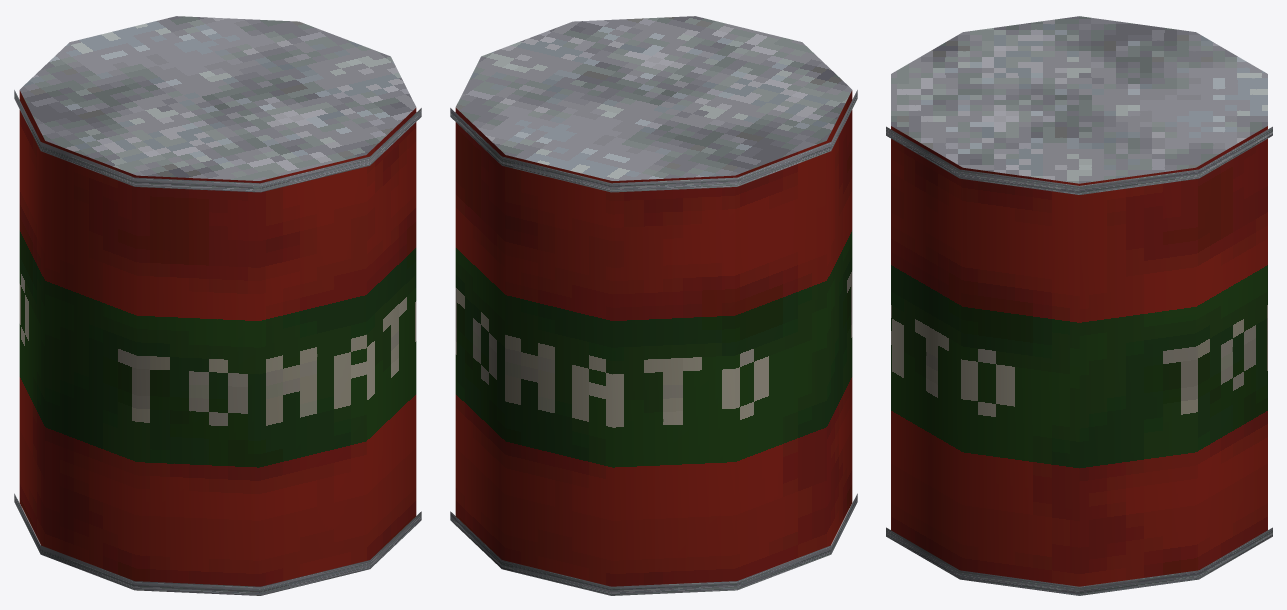
Rendered from can_tomatoes.glb.
3 views of the same model, side by side, from view 1: azimuth 30°, elevation 25°; view 2: azimuth 150°, elevation 25°; view 3: azimuth 270°, elevation 25° (orthographic).
Visible parts, largest first — view 1: can_tomatoes; view 2: can_tomatoes; view 3: can_tomatoes.
Boxes of the visible parts, x1,y1,x2,y2 form: can_tomatoes: (14,16,421,595); can_tomatoes: (450,16,857,595); can_tomatoes: (886,16,1272,595).
Size of the model in its own units: 0.16 by 0.178 by 0.1522.
Materials: 1 (1 with a texture image).
